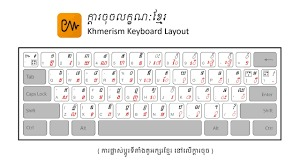keyboard: (16, 45, 277, 139)
